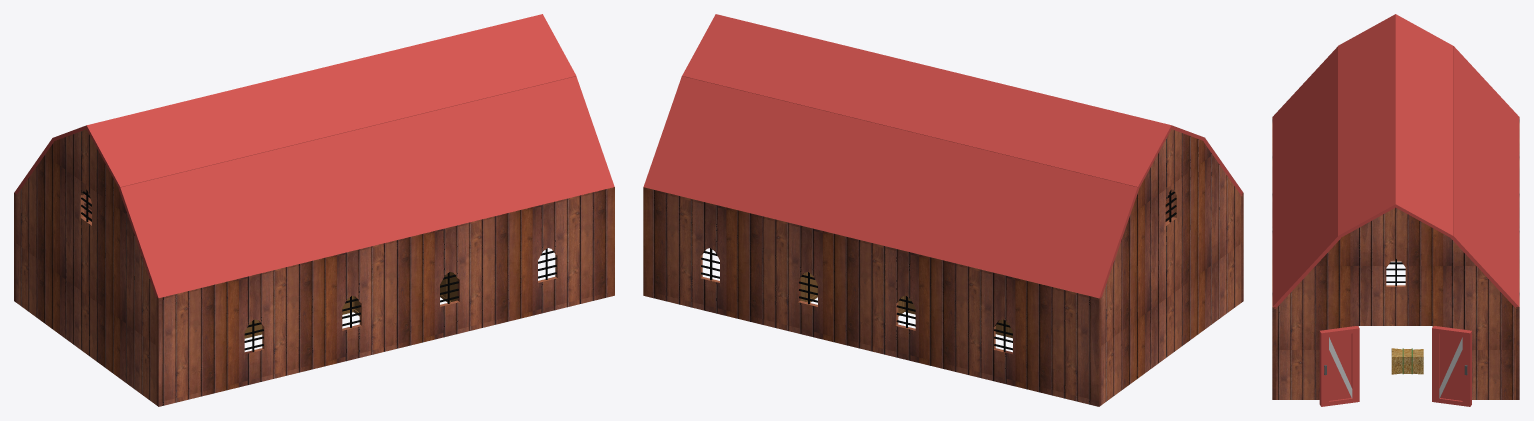
Rendered from Celeiro_Floresta.fbx.
The picture shows the model from 3 angles, left to right: view 1: azimuth 30°, elevation 25°; view 2: azimuth 150°, elevation 25°; view 3: azimuth 270°, elevation 25°; orthographic projection. The views are drawn at different scales.
Visible parts, largest first — view 1: TelhadoCeleiro.002, ParedeCeleiro, TelhadoCeleiro.001, ParedeCeleiro.005; view 2: TelhadoCeleiro, ParedeCeleiro.002, TelhadoCeleiro.001, ParedeCeleiro.005; view 3: ParedeCeleiro.001, TelhadoCeleiro.001, TelhadoCeleiro, TelhadoCeleiro.002, Portao, Portao.001, Feno, ParedeCeleiro, ParedeCeleiro.002.
Part boxes in pixels (left/top/right/bottom): TelhadoCeleiro.002: left=118, top=76, right=614, bottom=298; ParedeCeleiro: left=156, top=187, right=614, bottom=406; TelhadoCeleiro.001: left=53, top=14, right=576, bottom=189; ParedeCeleiro.005: left=16, top=129, right=156, bottom=404; TelhadoCeleiro: left=643, top=76, right=1138, bottom=299; ParedeCeleiro.002: left=643, top=187, right=1101, bottom=406; TelhadoCeleiro.001: left=682, top=14, right=1205, bottom=189; ParedeCeleiro.005: left=1101, top=129, right=1241, bottom=404; ParedeCeleiro.001: left=1276, top=207, right=1515, bottom=399; TelhadoCeleiro.001: left=1338, top=14, right=1453, bottom=238; TelhadoCeleiro: left=1451, top=46, right=1519, bottom=308; TelhadoCeleiro.002: left=1272, top=46, right=1340, bottom=308; Portao: left=1319, top=326, right=1359, bottom=406; Portao.001: left=1432, top=326, right=1471, bottom=406; Feno: left=1391, top=348, right=1423, bottom=374; ParedeCeleiro: left=1272, top=117, right=1276, bottom=399; ParedeCeleiro.002: left=1516, top=117, right=1519, bottom=399.
Bounding box in the file's own units: 1832 × 843 × 965.
